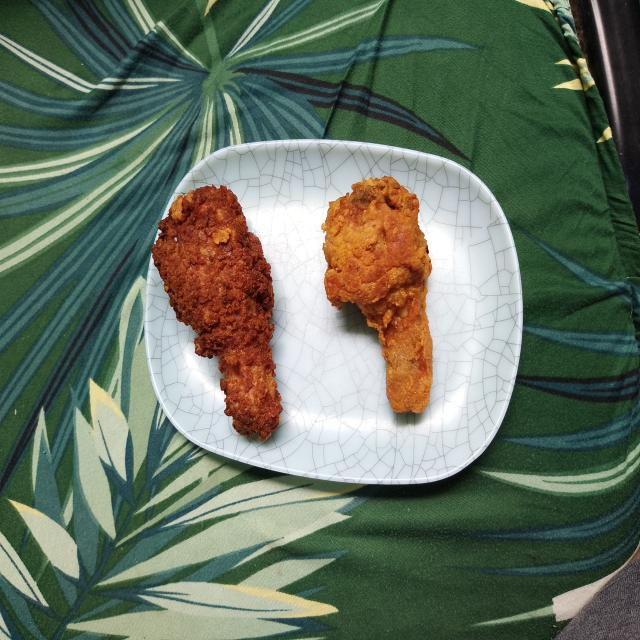Chicken -Fried Chicken-: (146, 164, 306, 463), (316, 160, 450, 438)
